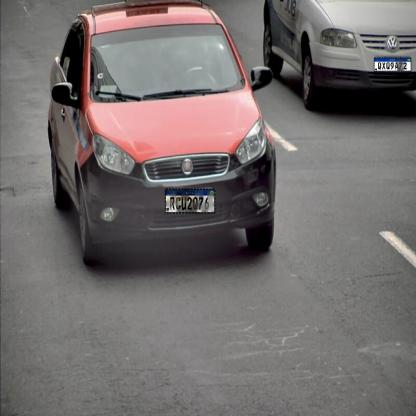PlacaM: (165, 188, 215, 214), (374, 58, 411, 72)
